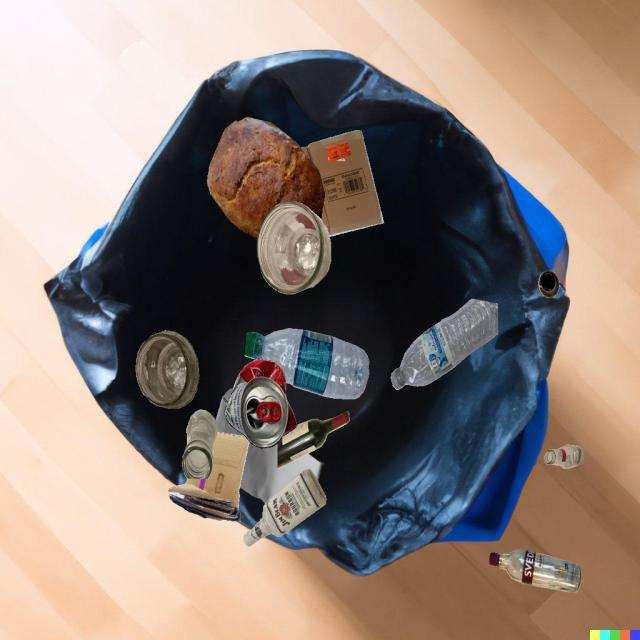biowaste: (207, 117, 325, 238)
cardboard: (300, 130, 384, 237), (168, 432, 249, 522)
glass: (257, 201, 331, 294), (243, 469, 326, 547), (136, 330, 199, 409), (278, 411, 350, 469), (489, 549, 581, 592), (182, 410, 217, 479), (544, 444, 586, 469), (538, 270, 560, 298)
metal: (224, 359, 297, 448)
paper: (240, 441, 324, 504)
plastic: (391, 298, 498, 390), (244, 328, 369, 399)
